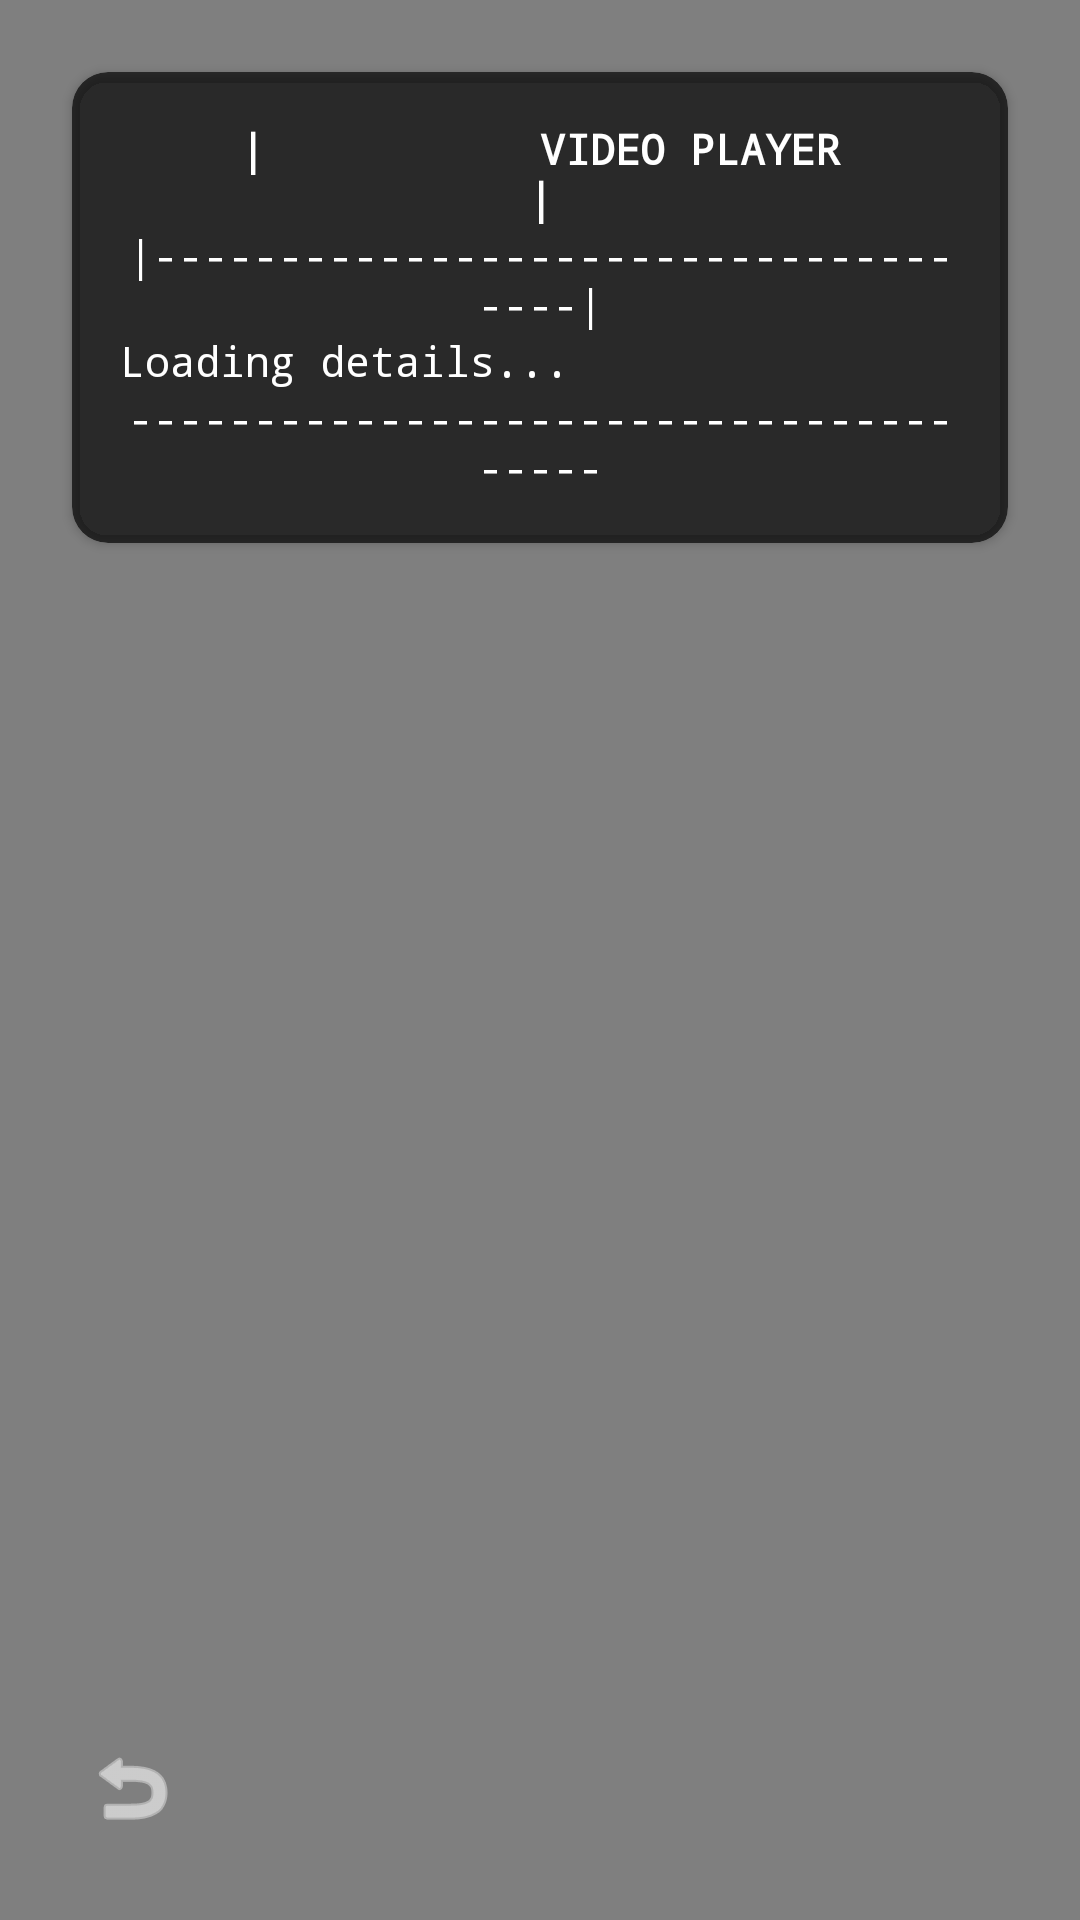

Icons on this 1080px x 1920px Android screen, each with the point to tap as point (x, y):
revert: point (133, 1789)
